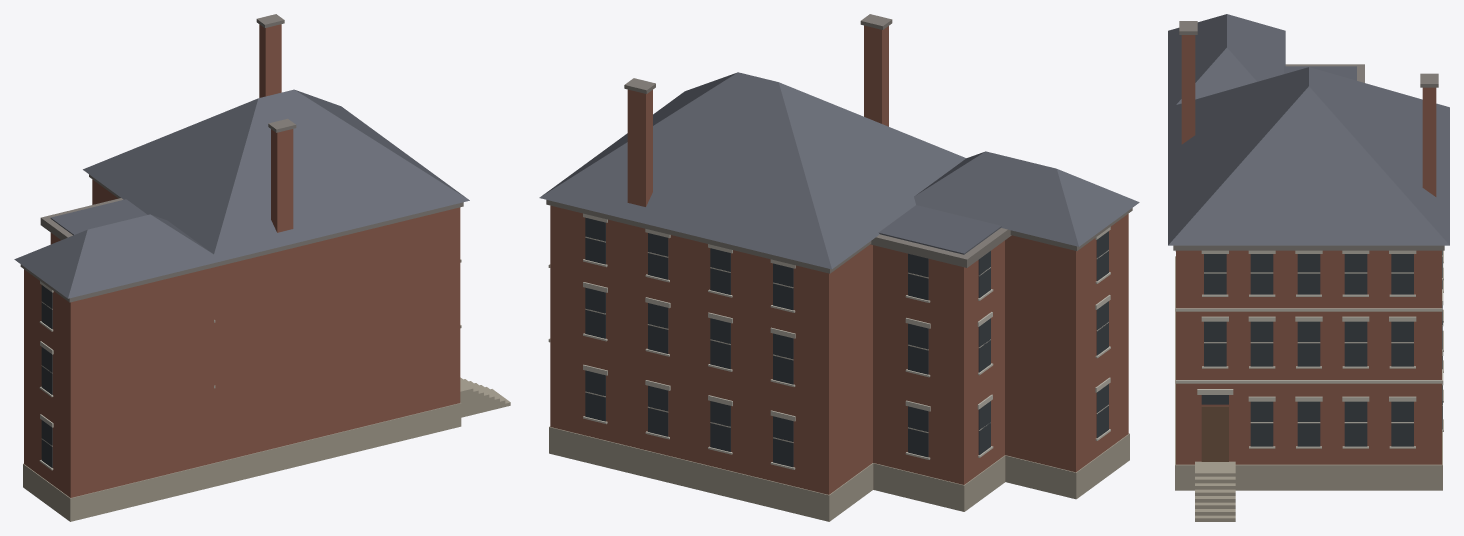
The model's file is house_1637_indiana__draft_1904.glb.
3 views of the same model, side by side, from view 1: azimuth 30°, elevation 25°; view 2: azimuth 150°, elevation 25°; view 3: azimuth 270°, elevation 25° (orthographic). The views are drawn at different scales.
Visible parts, largest first — view 1: house_1637_indiana__draft_1904; view 2: house_1637_indiana__draft_1904; view 3: house_1637_indiana__draft_1904.
Part boxes in pixels (x1,y1,x2,y2): house_1637_indiana__draft_1904: (14,14,510,521); house_1637_indiana__draft_1904: (539,14,1139,521); house_1637_indiana__draft_1904: (1168,14,1449,521).
Size of the model in its own units: 25.4 by 18.14 by 12.45.
